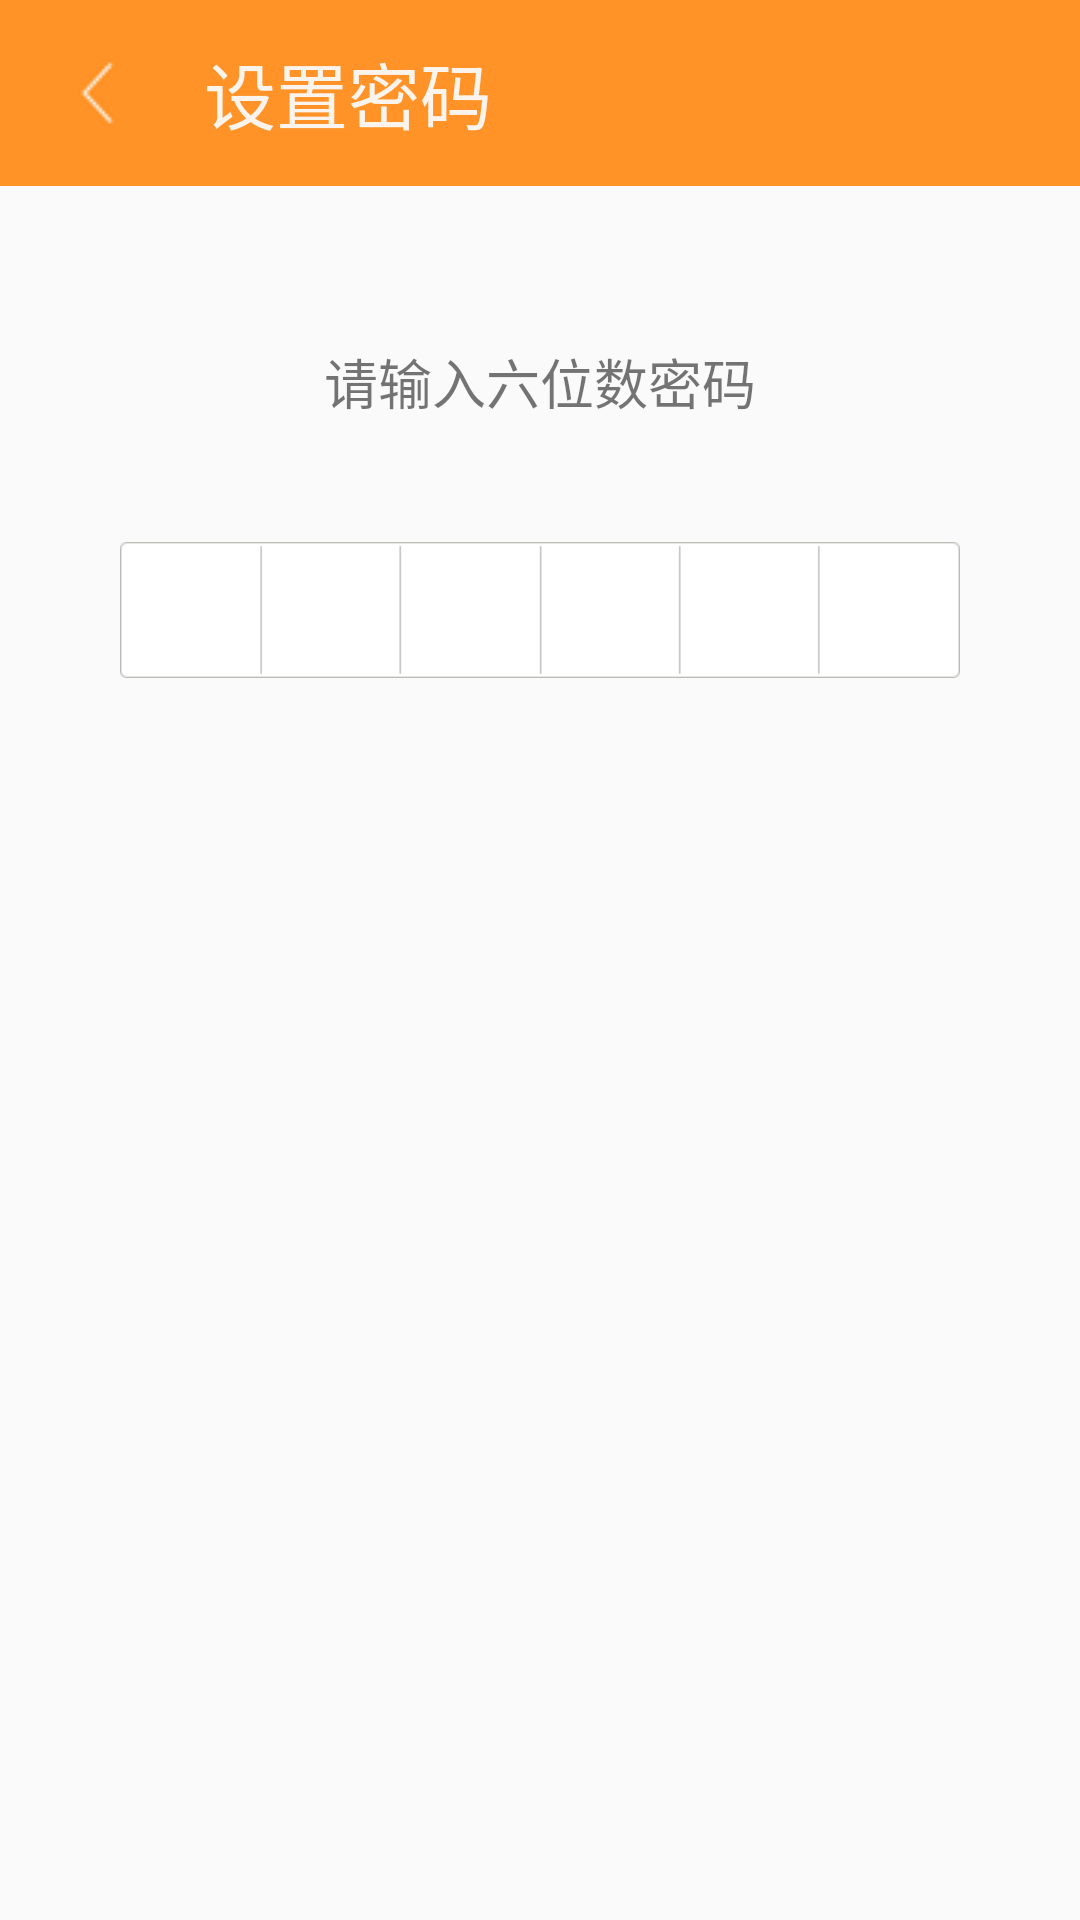

Icons on this 1080*1920 Android screen, each with the point to tap as point (x, y):
back: point (97, 93)
